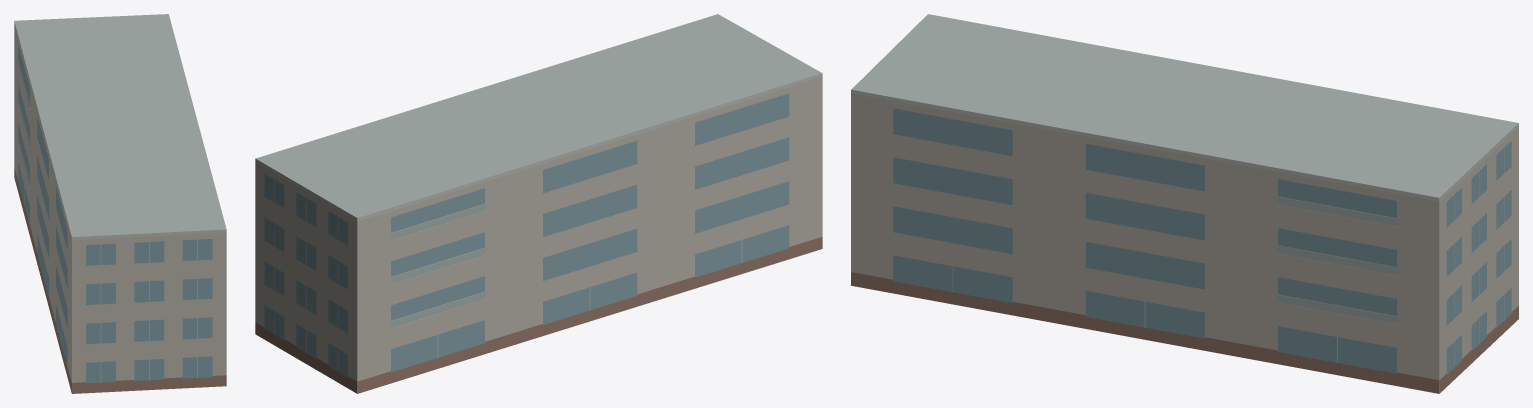
The model's file is survey-upis-33025578.glb.
3 views of the same model, side by side, from view 1: azimuth 30°, elevation 25°; view 2: azimuth 150°, elevation 25°; view 3: azimuth 270°, elevation 25° (orthographic). The views are drawn at different scales.
Visible parts, largest first — view 1: survey-upis-33025578.tmp; view 2: survey-upis-33025578.tmp; view 3: survey-upis-33025578.tmp.
Part boxes in pixels (left/top/right/bottom): survey-upis-33025578.tmp: left=14, top=14, right=226, bottom=393; survey-upis-33025578.tmp: left=255, top=14, right=822, bottom=393; survey-upis-33025578.tmp: left=851, top=14, right=1518, bottom=393.
Bounding box in the file's own units: 24.55 × 12.2 × 37.67.
